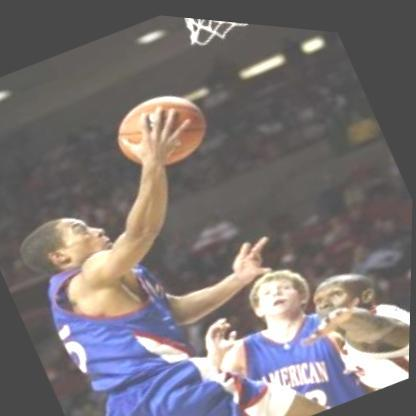basketball: (99, 64, 228, 189)
